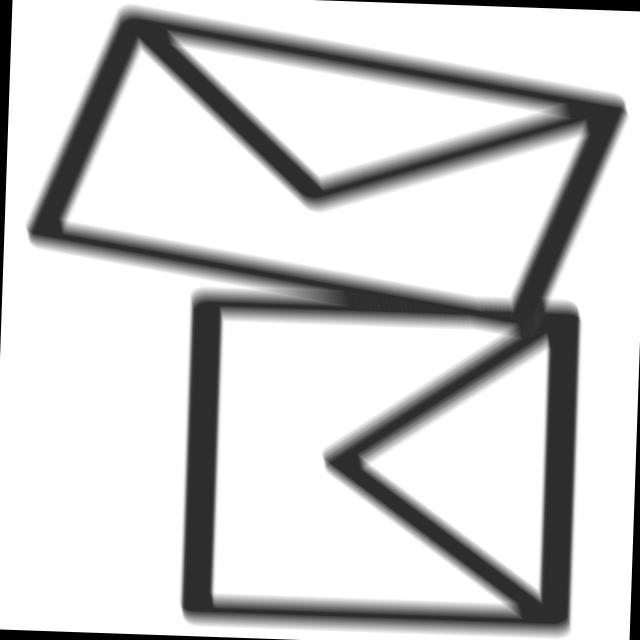letter: (9, 1, 637, 355), (172, 281, 592, 640)
